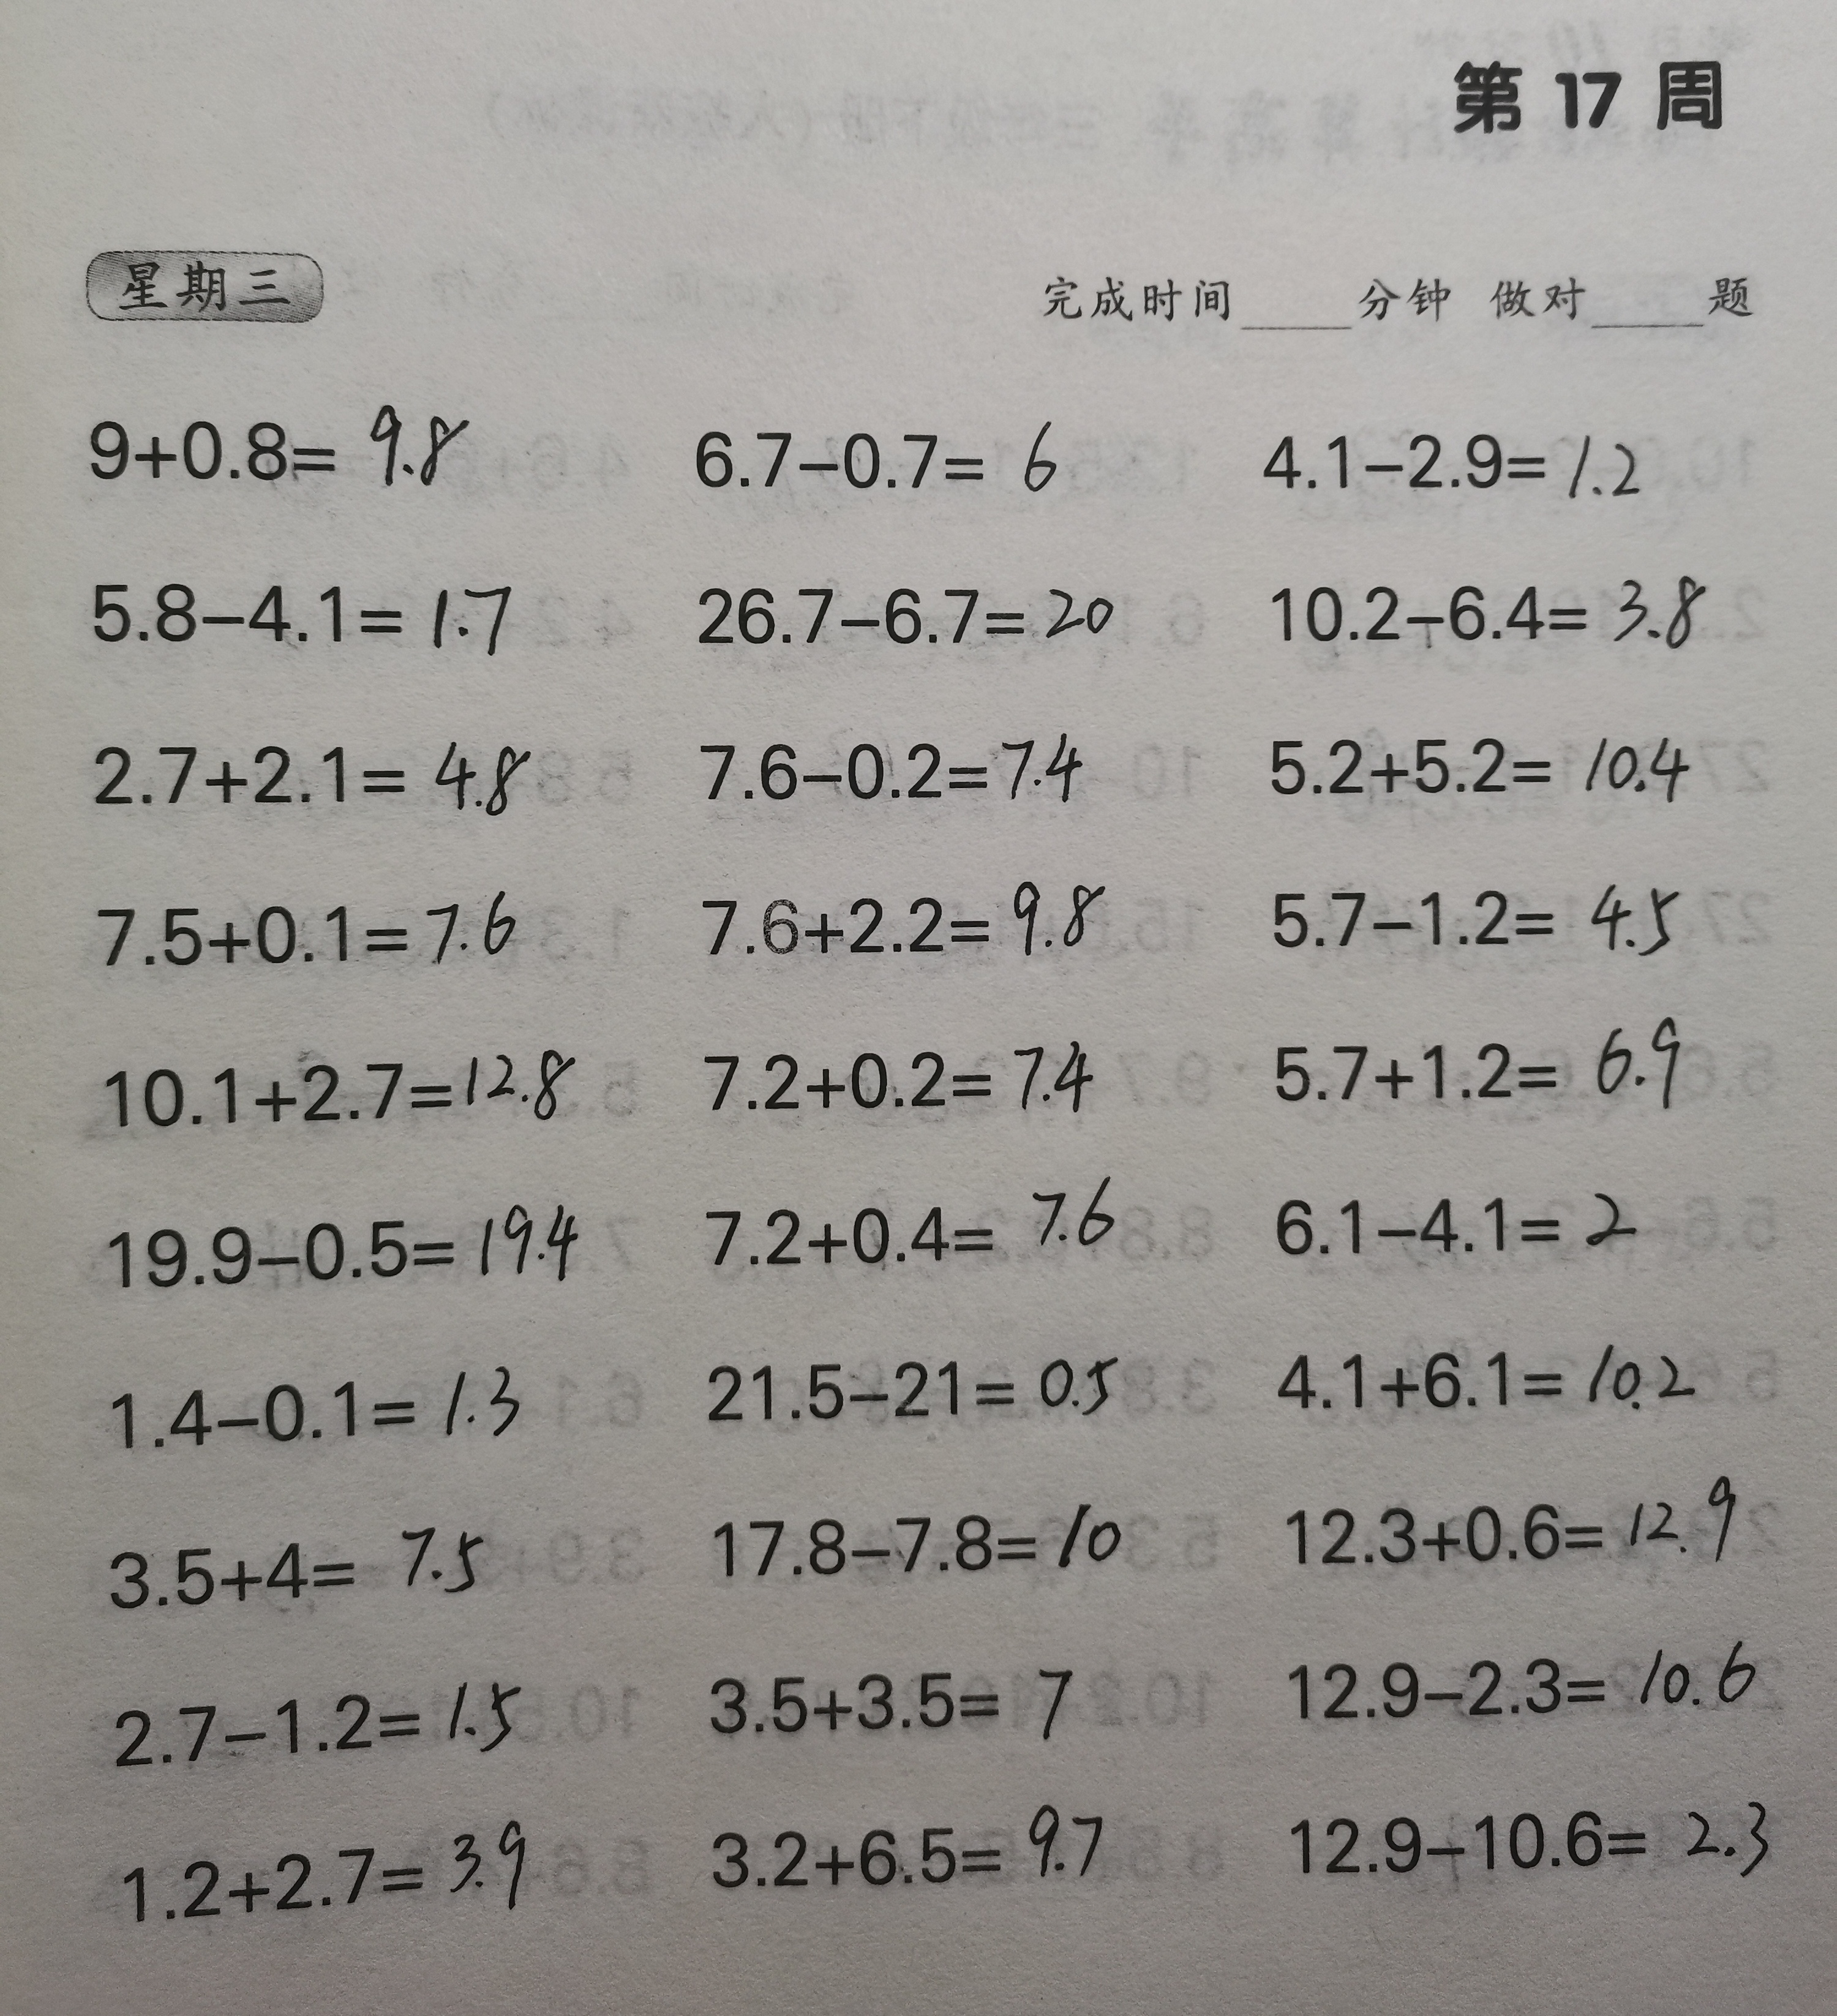equation: (1264, 1777, 1807, 1907), (1252, 994, 1726, 1134), (65, 1180, 592, 1305), (98, 1802, 555, 1939), (84, 1340, 534, 1470), (685, 1777, 1135, 1907), (58, 544, 516, 671), (1264, 1465, 1769, 1579), (1245, 1322, 1756, 1435), (1266, 1631, 1798, 1739), (60, 367, 481, 500), (701, 1470, 1150, 1595), (702, 1161, 1150, 1284), (683, 1017, 1156, 1133), (676, 551, 1138, 669), (673, 379, 1092, 508), (70, 711, 539, 824), (1252, 397, 1672, 520), (83, 1660, 541, 1772), (1247, 860, 1707, 971), (83, 1034, 588, 1134), (680, 852, 1113, 964), (690, 1637, 1105, 1753), (79, 1507, 513, 1617), (690, 704, 1103, 820), (84, 878, 551, 980), (695, 1335, 1129, 1442), (1250, 557, 1716, 655), (1259, 711, 1700, 806), (1259, 1159, 1649, 1261)
